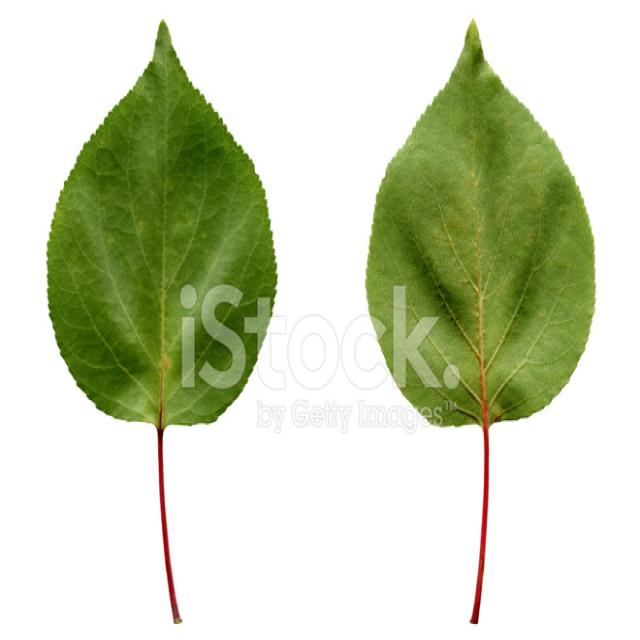kayisi yapragi: (45, 16, 281, 449), (363, 18, 600, 438)
